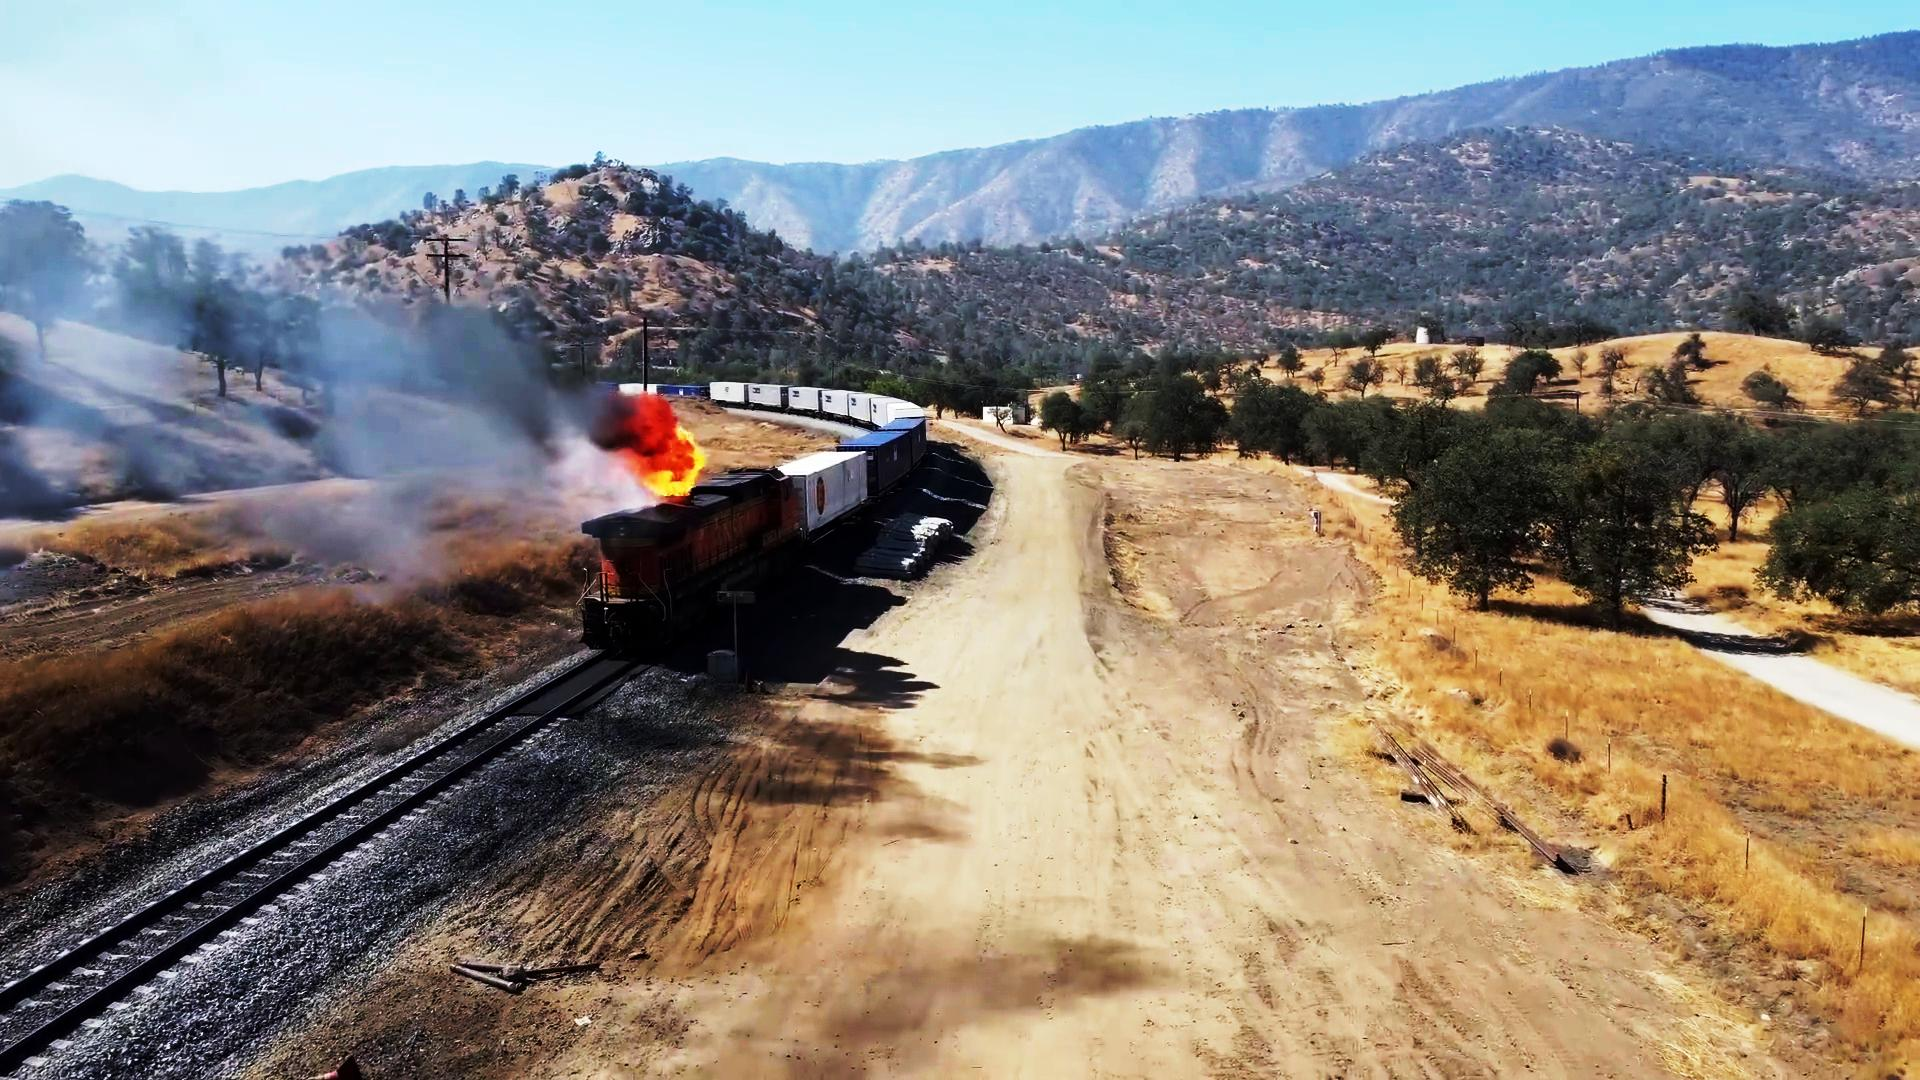fire: (618, 393, 705, 501)
smoke: (345, 343, 541, 479)
